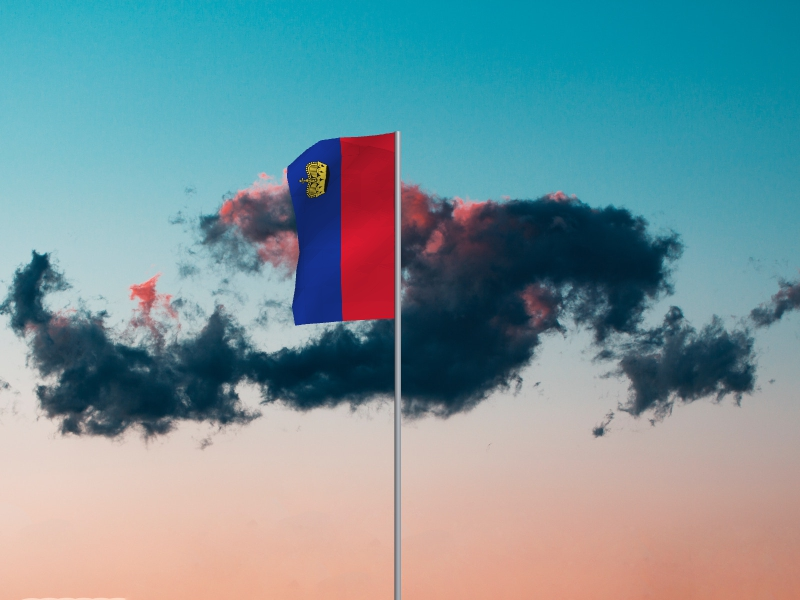li: (286, 133, 395, 328)
